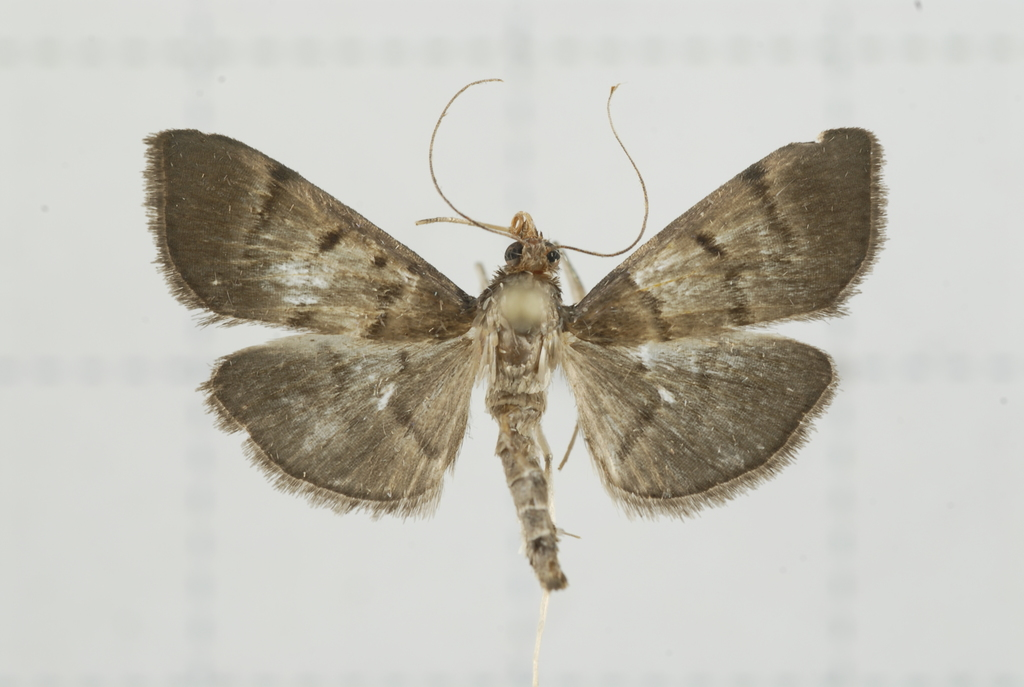Butterfly: (129, 104, 891, 605)
